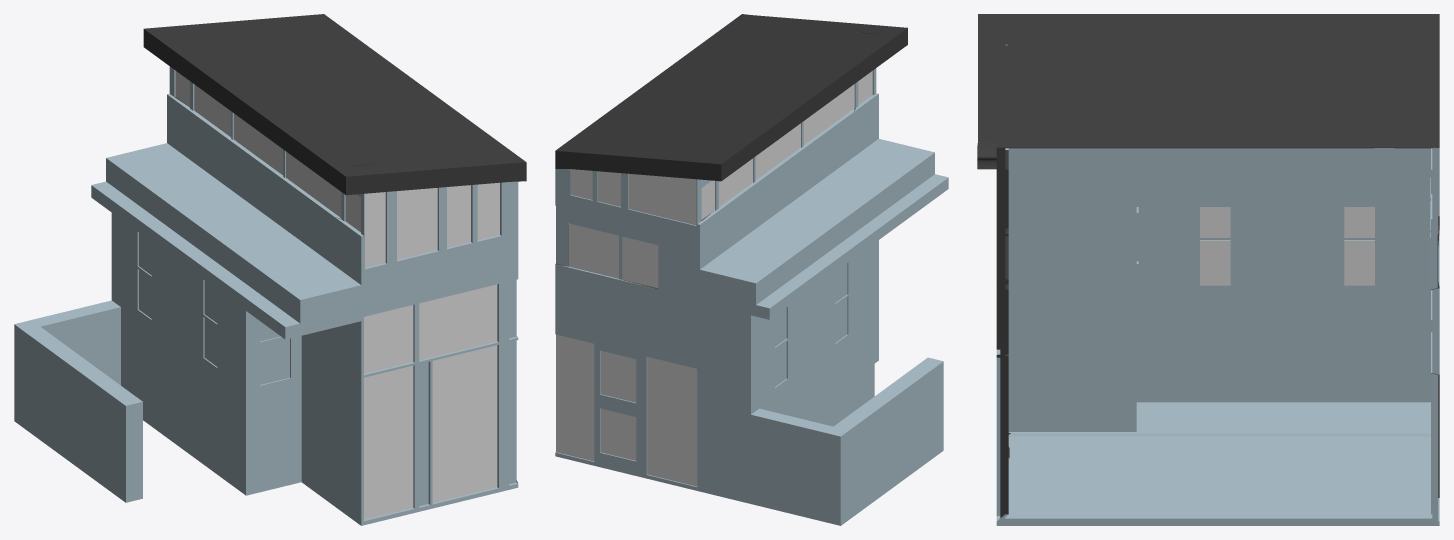
File: house-1.glb
3 views of the same model, side by side, from view 1: azimuth 30°, elevation 25°; view 2: azimuth 150°, elevation 25°; view 3: azimuth 270°, elevation 25° (orthographic). The views are drawn at different scales.
Visible parts, largest first — view 1: PartB; view 2: PartB; view 3: PartB.
Part boxes in pixels (x1,y1,x2,y2): PartB: (14, 14, 526, 525); PartB: (555, 14, 948, 525); PartB: (977, 14, 1439, 525).
Size of the model in its own units: 3.47 by 3.86 by 3.93.
